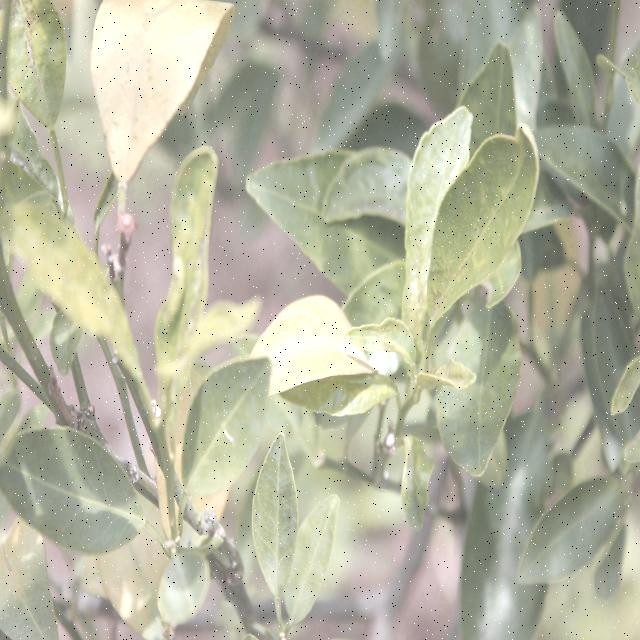greening: (92, 4, 230, 159), (249, 296, 359, 382)
